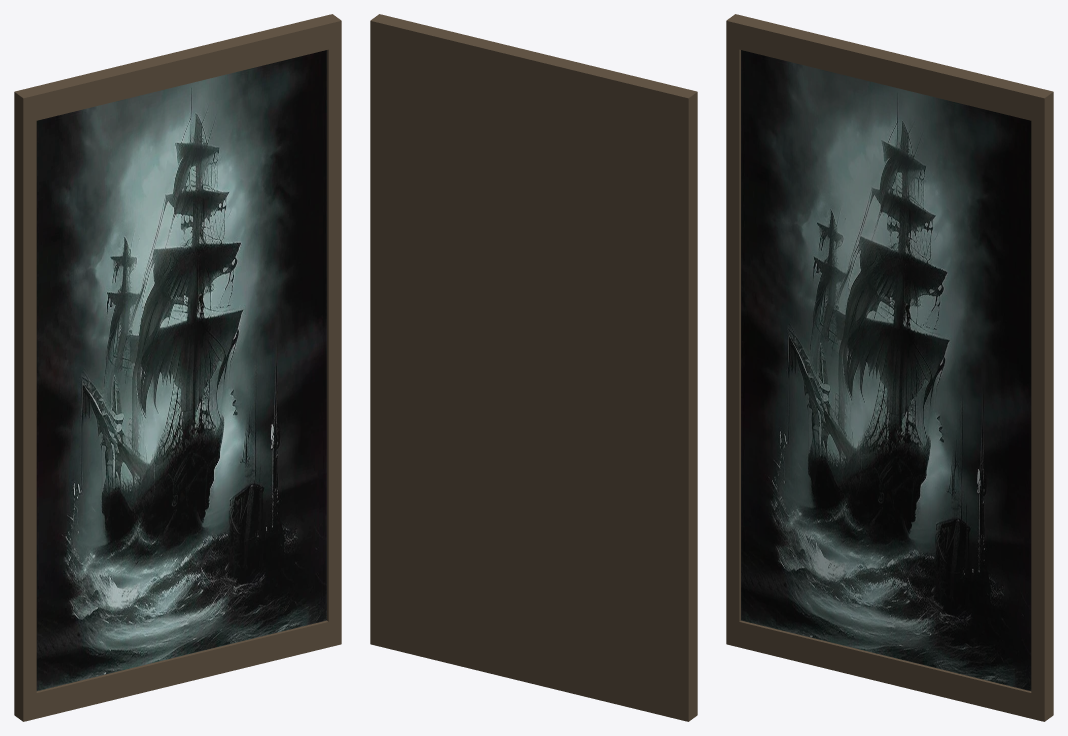
File: picture_2.fbx
3 renders of one model, left to right at view 1: azimuth 30°, elevation 25°; view 2: azimuth 150°, elevation 25°; view 3: azimuth 330°, elevation 25°, orthographic.
Parts seen in each view (by area): view 1: Painting; view 2: Painting; view 3: Painting.
Boxes of the visible parts, x1,y1,x2,y2 form: Painting: (14, 14, 341, 721); Painting: (370, 14, 697, 721); Painting: (726, 14, 1053, 721).
Bounding box in the file's own units: 222 × 416 × 11.11.
